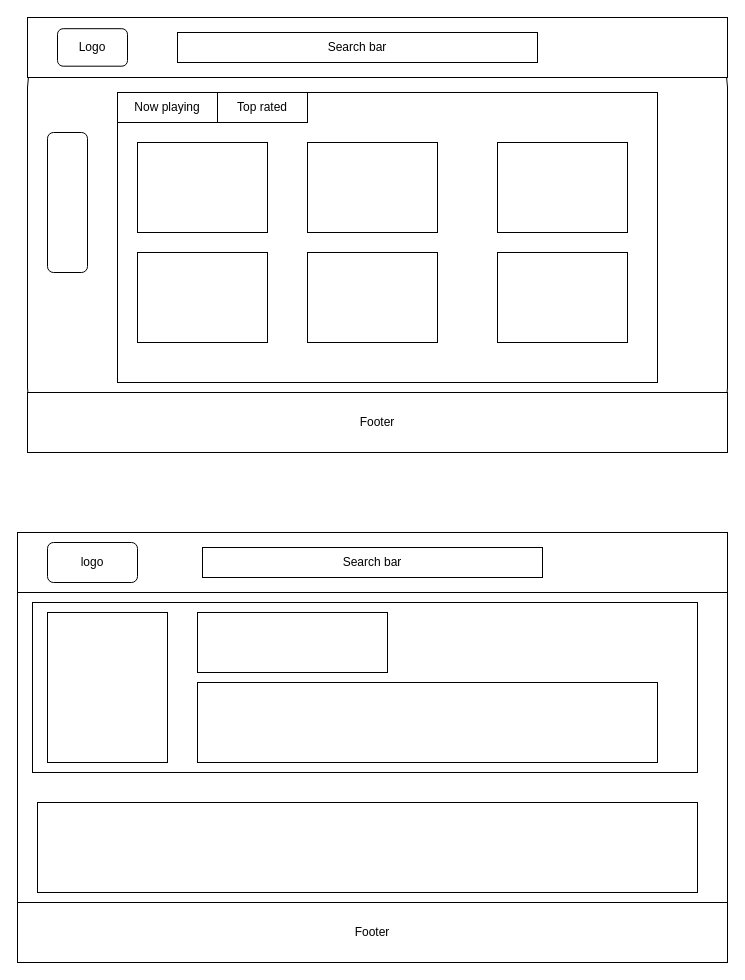
This 745x980 diagram has some shape labels left out. The centre of each missing label's shape, as x and y in pixels:
Description: the point at 427,722
Grid view or list view: the point at 67,202
Poster: the point at 107,687
Similar movies: the point at 367,847
Title Release date rating: the point at 292,642
